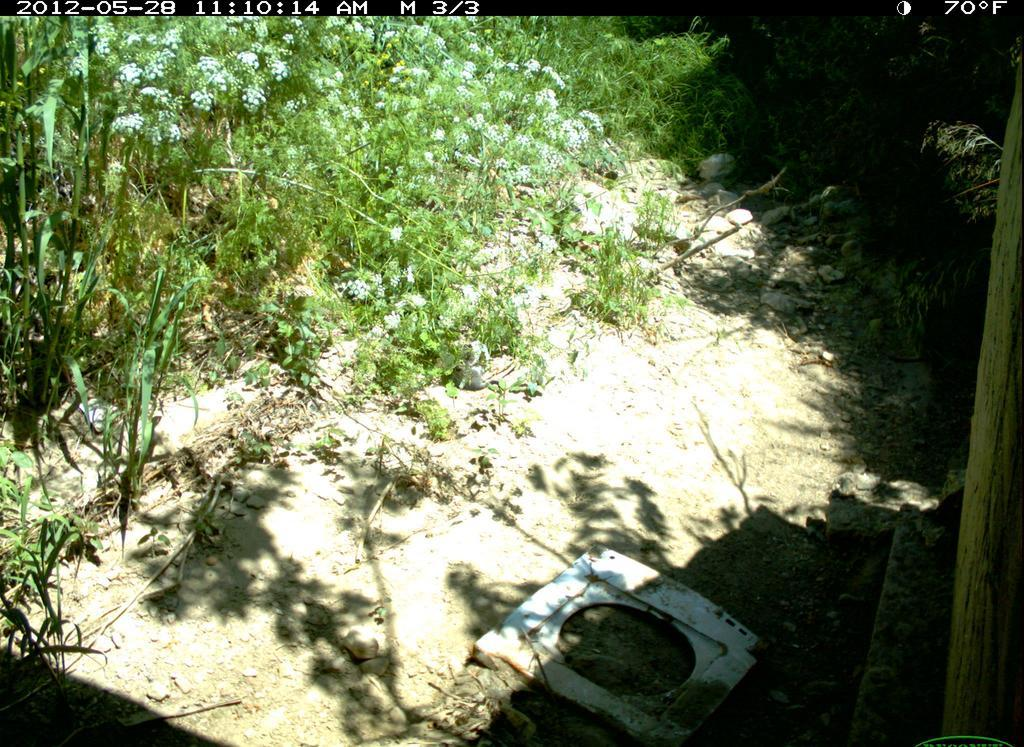cat: (448, 340, 502, 394)
